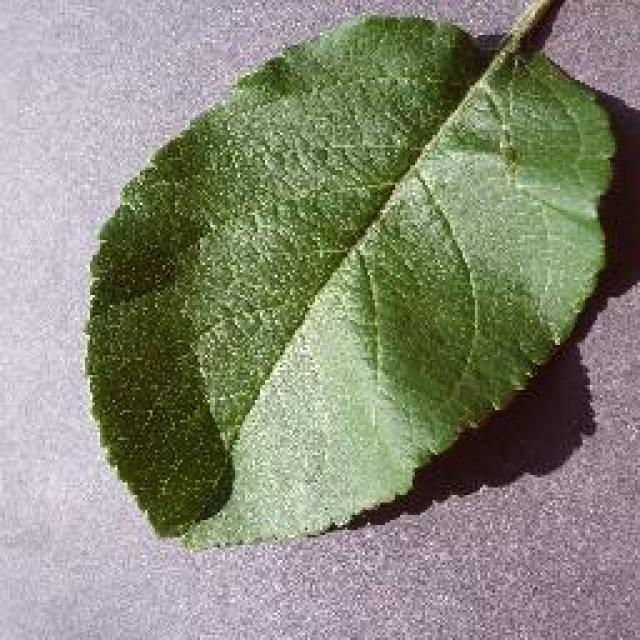apple scab disease: (80, 5, 622, 553)
